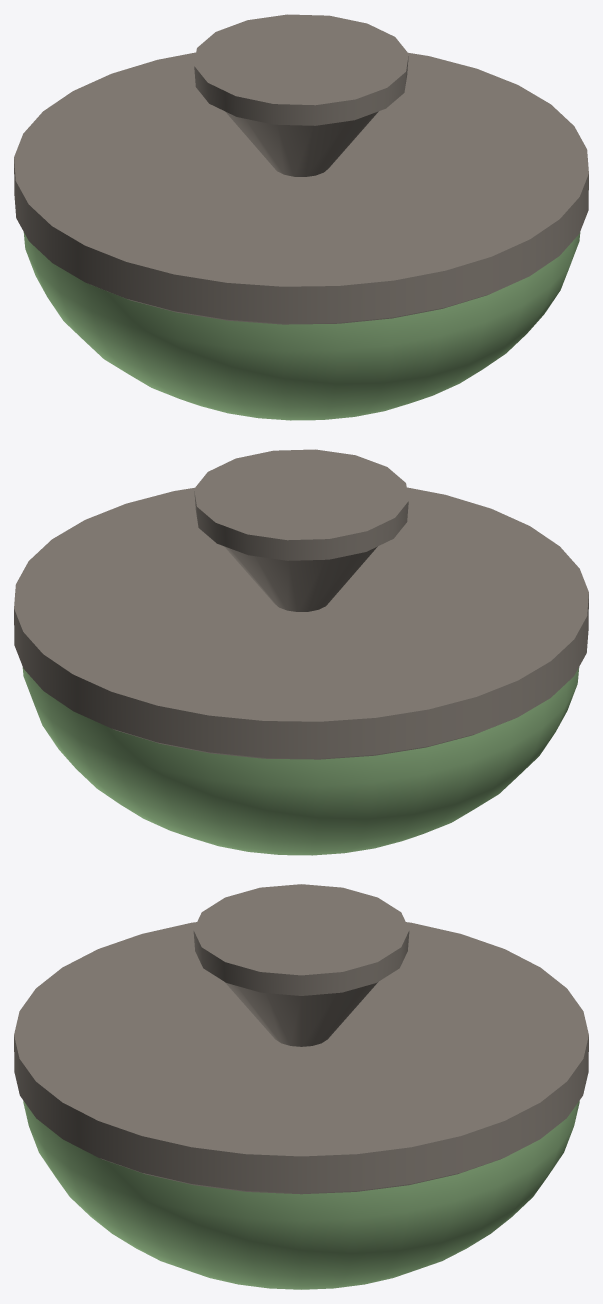
Rendered from lampClassicCeiling.fbx.
The picture shows the model from 3 angles, top to bottom: view 1: azimuth 30°, elevation 25°; view 2: azimuth 150°, elevation 25°; view 3: azimuth 270°, elevation 25°; orthographic projection.
Parts seen in each view (by area): view 1: lampClassicCeiling; view 2: lampClassicCeiling; view 3: lampClassicCeiling.
Boxes of the visible parts, x1=… form: lampClassicCeiling: x1=14, y1=14, x2=588, y2=420; lampClassicCeiling: x1=14, y1=449, x2=588, y2=855; lampClassicCeiling: x1=14, y1=884, x2=588, y2=1289.
Size of the model in its own units: 42.28 by 26.78 by 42.28.
